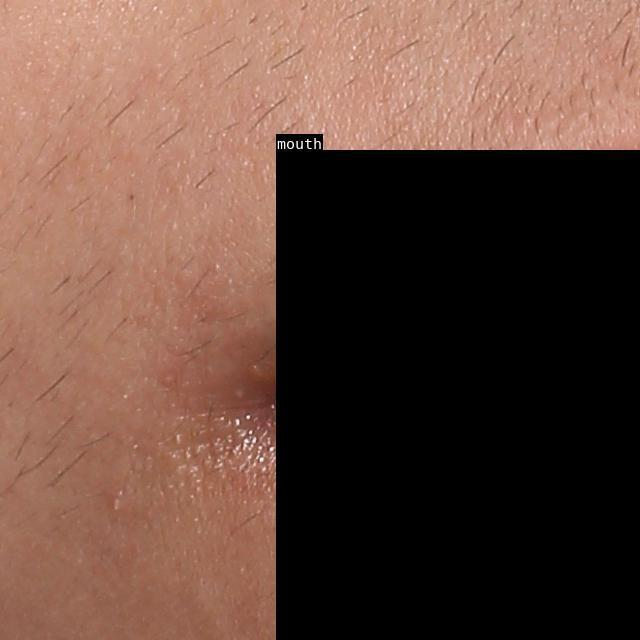comedo: (105, 493, 121, 515)
